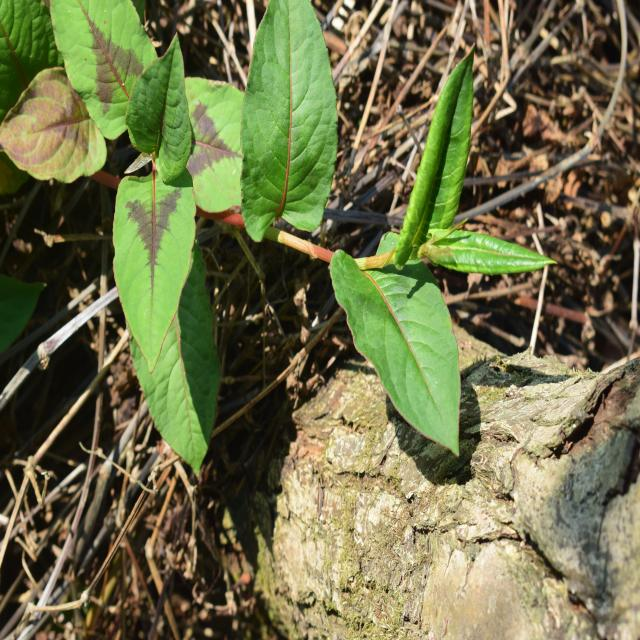Chinese_knotweed: (74, 16, 508, 430)
